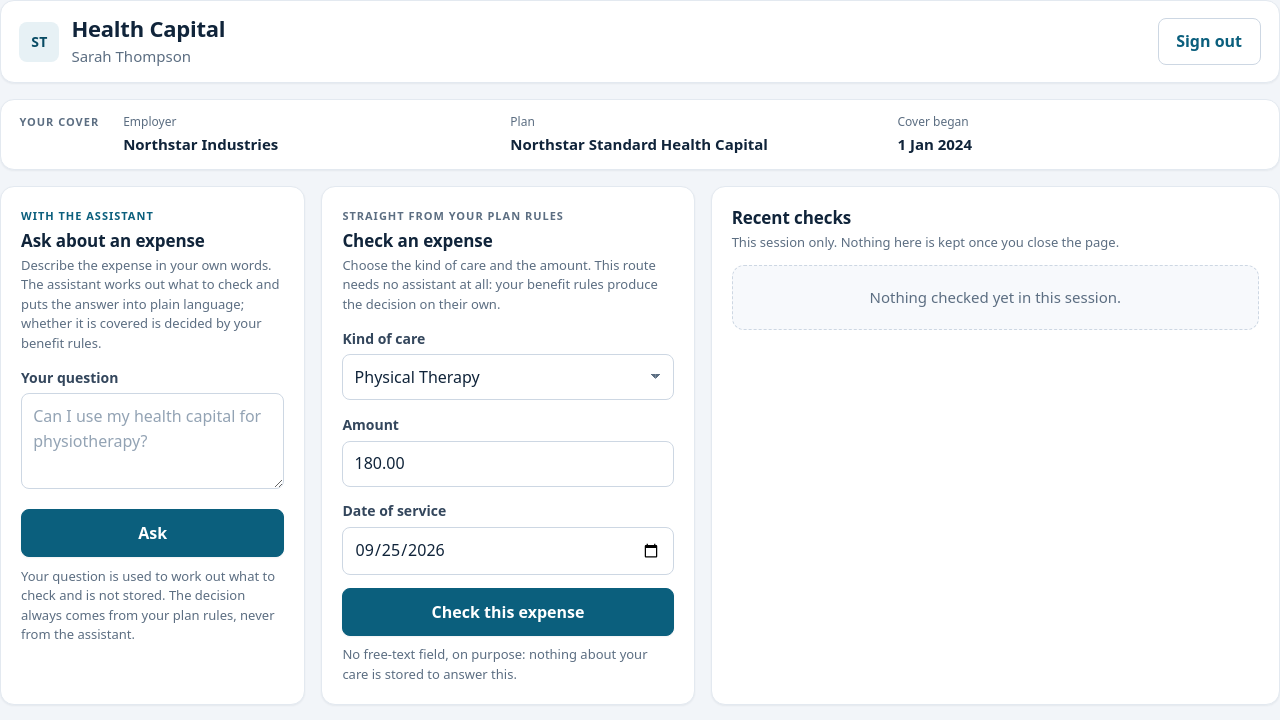
Scenario: recent checks keep one entry per thing that happened › shows the assistant-unavailable notice once when the assistant is unavailable
Type "can I claim physio" into the text box labelled "Your question" at (153, 441), box x1=21 y1=394 x2=284 y2=489
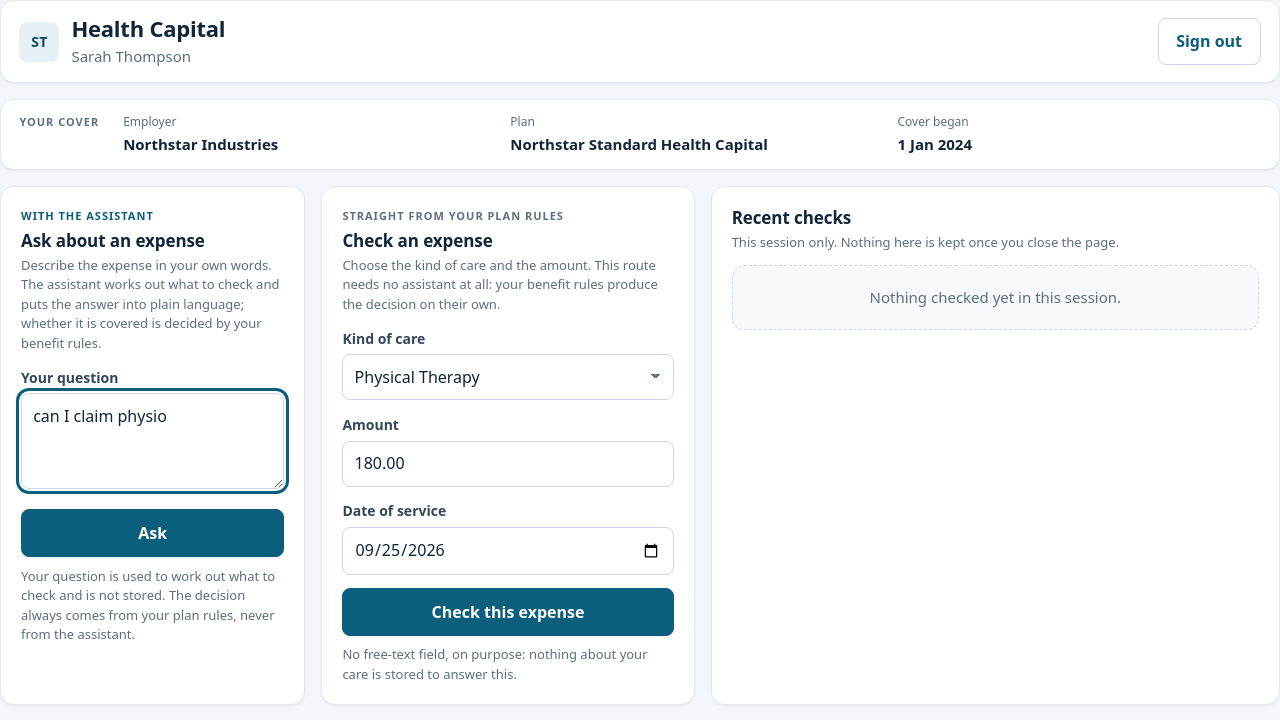
Click the button "Ask" at (153, 533), box x1=21 y1=509 x2=284 y2=557
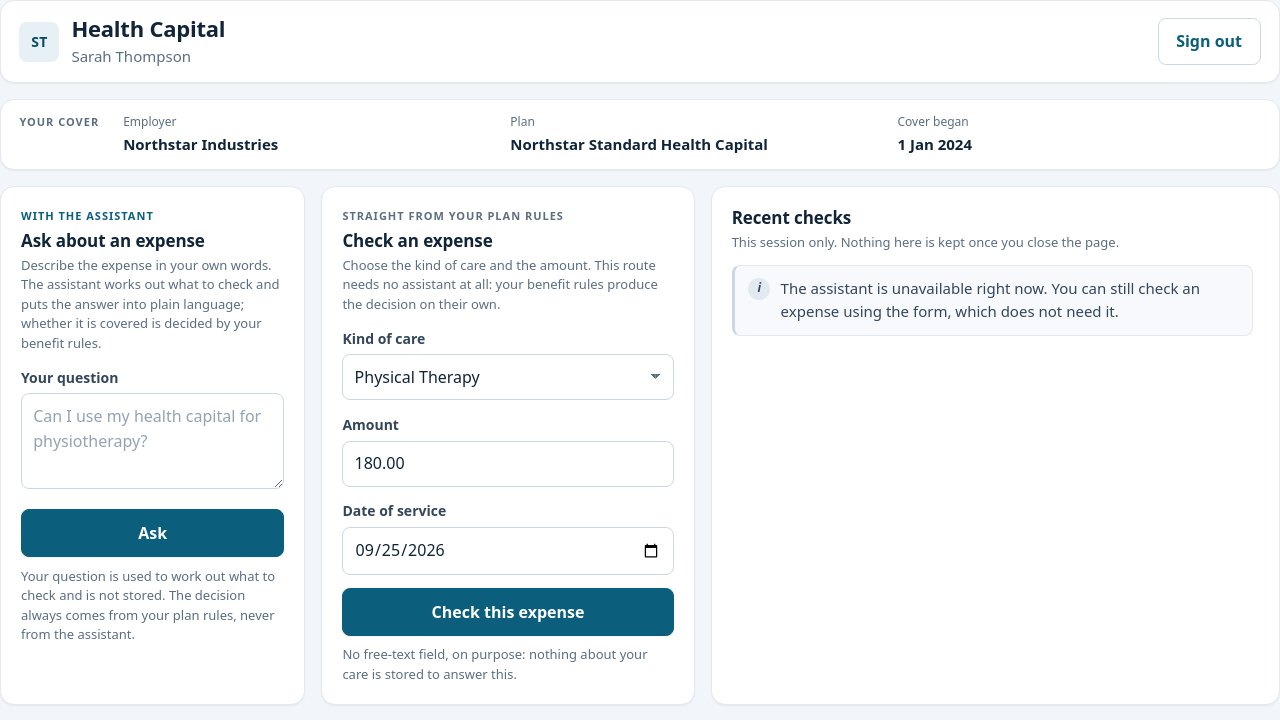
Expected: the number of elements with test id "clarification" is 1, x1=732 y1=265 x2=1253 y2=336
Expected: the text with test id "clarification" shows "The assistant is unavailable right now. You can still check an expense using the form, which does not need it.", x1=781 y1=278 x2=1200 y2=321
